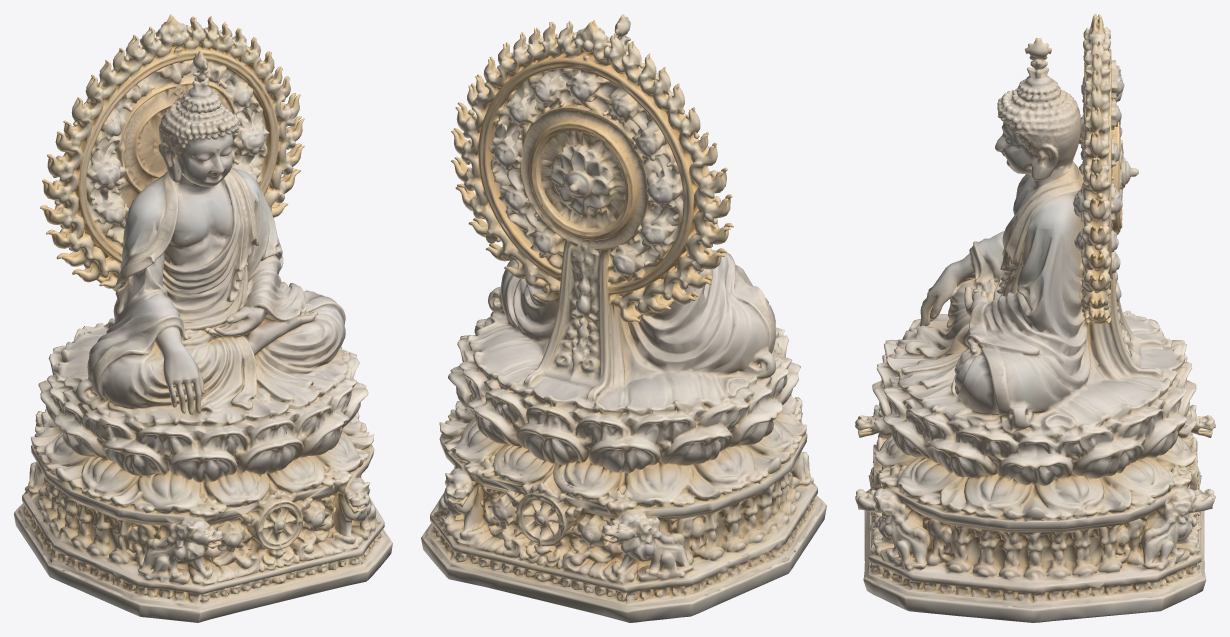
The picture shows the model from 3 angles, left to right: view 1: azimuth 30°, elevation 25°; view 2: azimuth 150°, elevation 25°; view 3: azimuth 270°, elevation 25°; orthographic projection. The views are drawn at different scales.
Visible parts, largest first — view 1: four-heavenly-kings-02; view 2: four-heavenly-kings-02; view 3: four-heavenly-kings-02.
Part boxes in pixels (bbox=[...]): four-heavenly-kings-02: bbox=[14, 14, 392, 622]; four-heavenly-kings-02: bbox=[421, 14, 826, 622]; four-heavenly-kings-02: bbox=[855, 14, 1215, 622].
Size of the model in its own units: 0.6401 by 0.9998 by 0.6204.
1 material, 1 textured.
